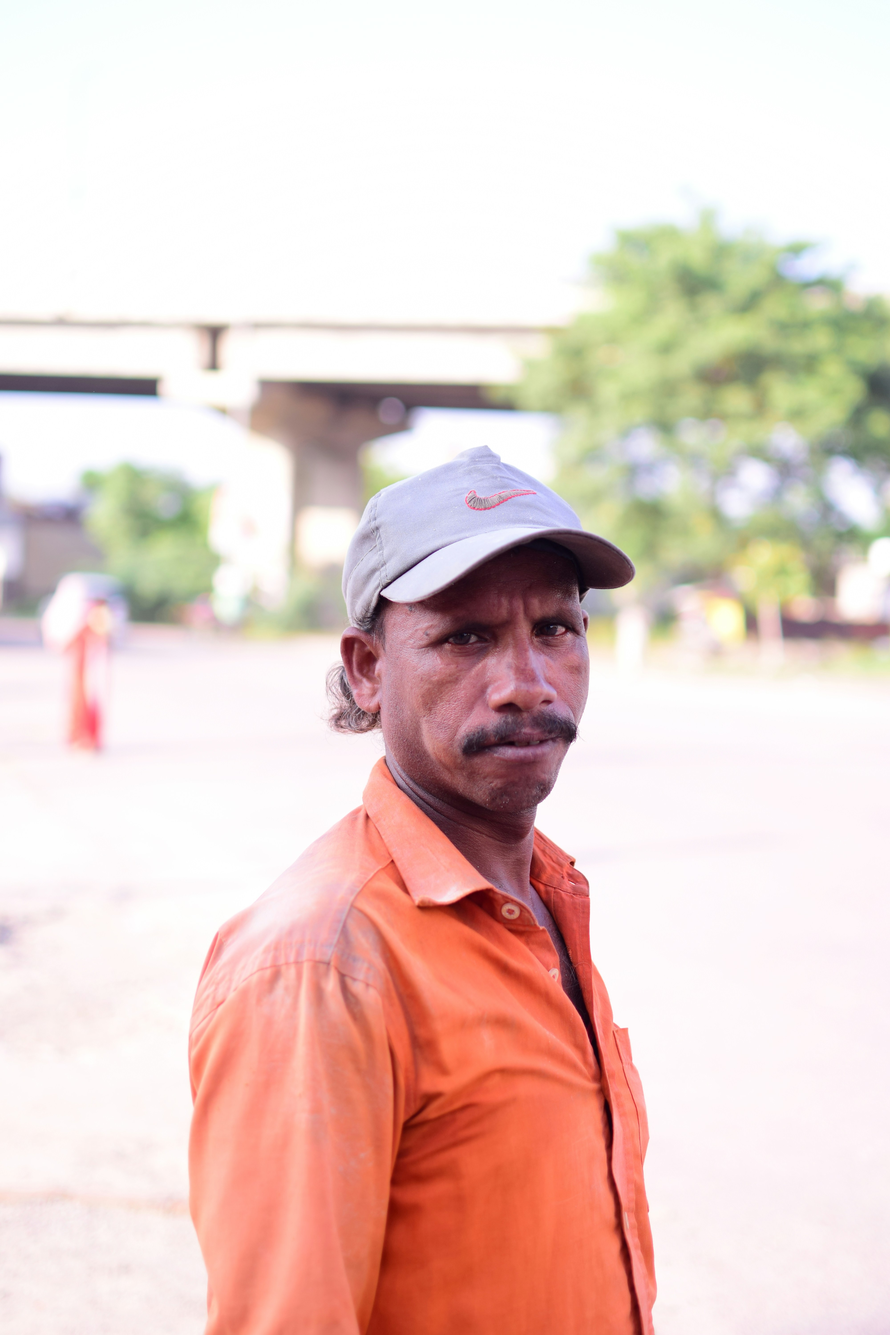No_Helmet: (349, 489, 634, 828)
